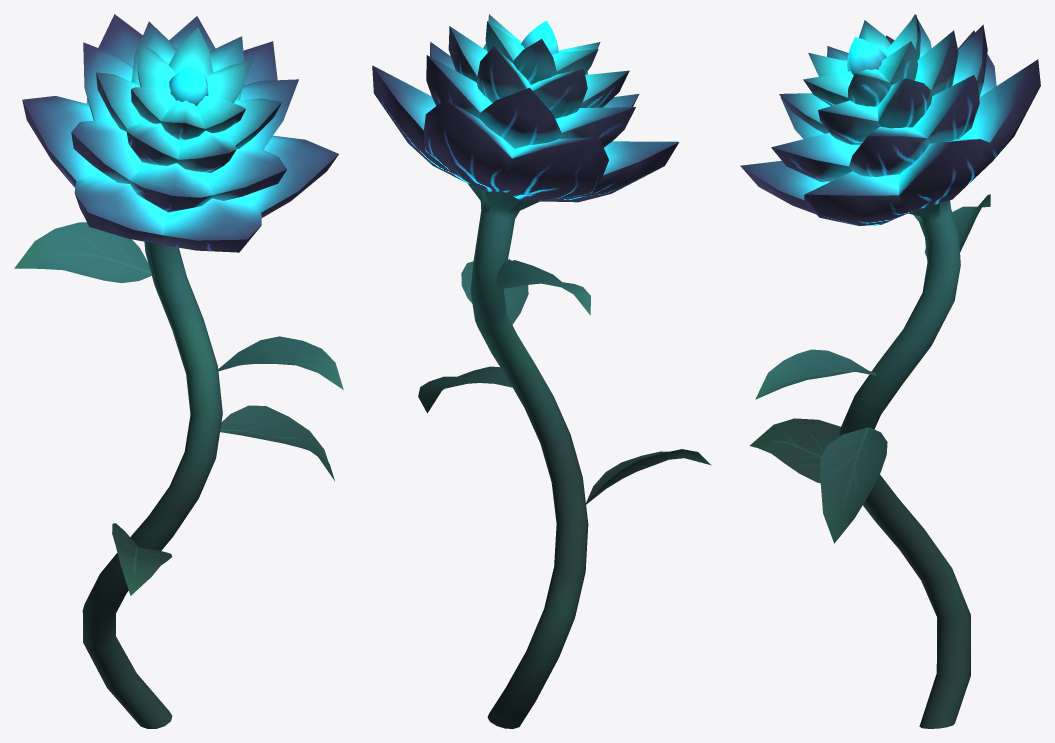
File: EXP_Flower_Teleportation.fbx
3 views of the same model, side by side, from view 1: azimuth 30°, elevation 25°; view 2: azimuth 150°, elevation 25°; view 3: azimuth 270°, elevation 25° (orthographic). The views are drawn at different scales.
Parts seen in each view (by area): view 1: OBJ_Flower_Teleportation; view 2: OBJ_Flower_Teleportation; view 3: OBJ_Flower_Teleportation.
Boxes of the visible parts, left/top/right/bottom form: OBJ_Flower_Teleportation: left=14, top=14, right=343, bottom=728; OBJ_Flower_Teleportation: left=372, top=14, right=711, bottom=728; OBJ_Flower_Teleportation: left=740, top=14, right=1040, bottom=728.
Bounding box in the file's own units: 17.75 × 47 × 18.25.
1 material, 1 textured.
